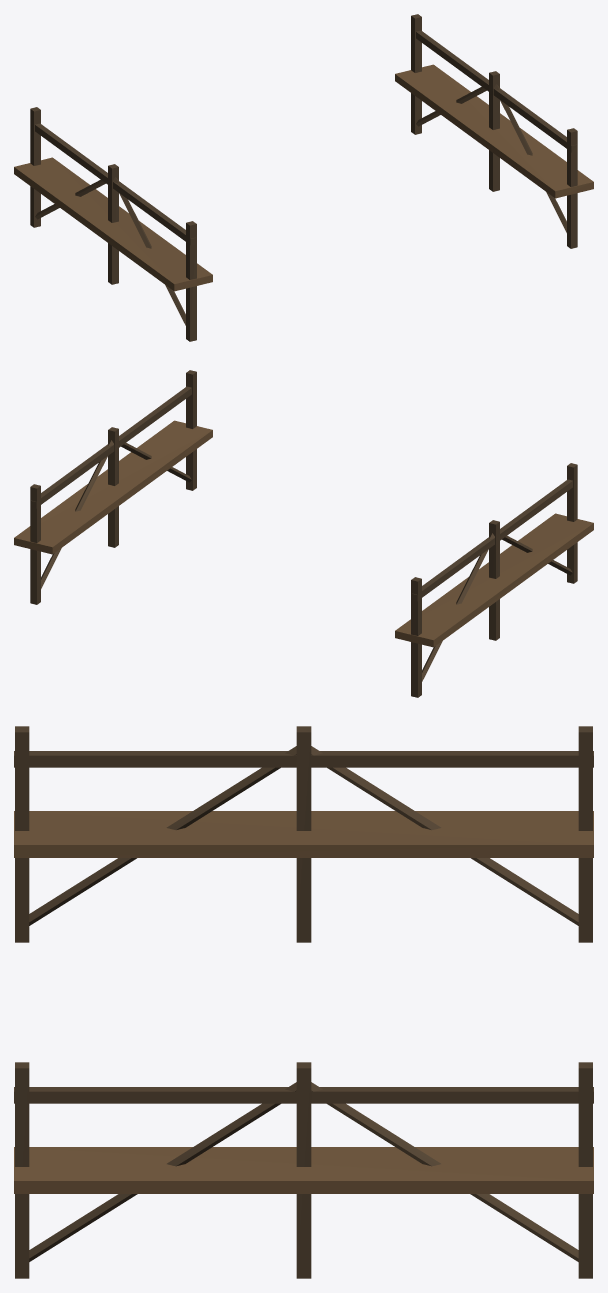
Rendered from scaffold.glb.
The picture shows the model from 3 angles, top to bottom: view 1: azimuth 30°, elevation 25°; view 2: azimuth 150°, elevation 25°; view 3: azimuth 270°, elevation 25°; orthographic projection. The views are drawn at different scales.
Parts seen in each view (by area): view 1: city-details/scaffold; view 2: city-details/scaffold; view 3: city-details/scaffold.
Part boxes in pixels (box(x1,y1,x2,y2)): city-details/scaffold: box(14, 14, 593, 341); city-details/scaffold: box(14, 370, 593, 697); city-details/scaffold: box(14, 726, 593, 1278).
Bounding box in the file's own units: 7.93 × 2.1 × 5.25.
